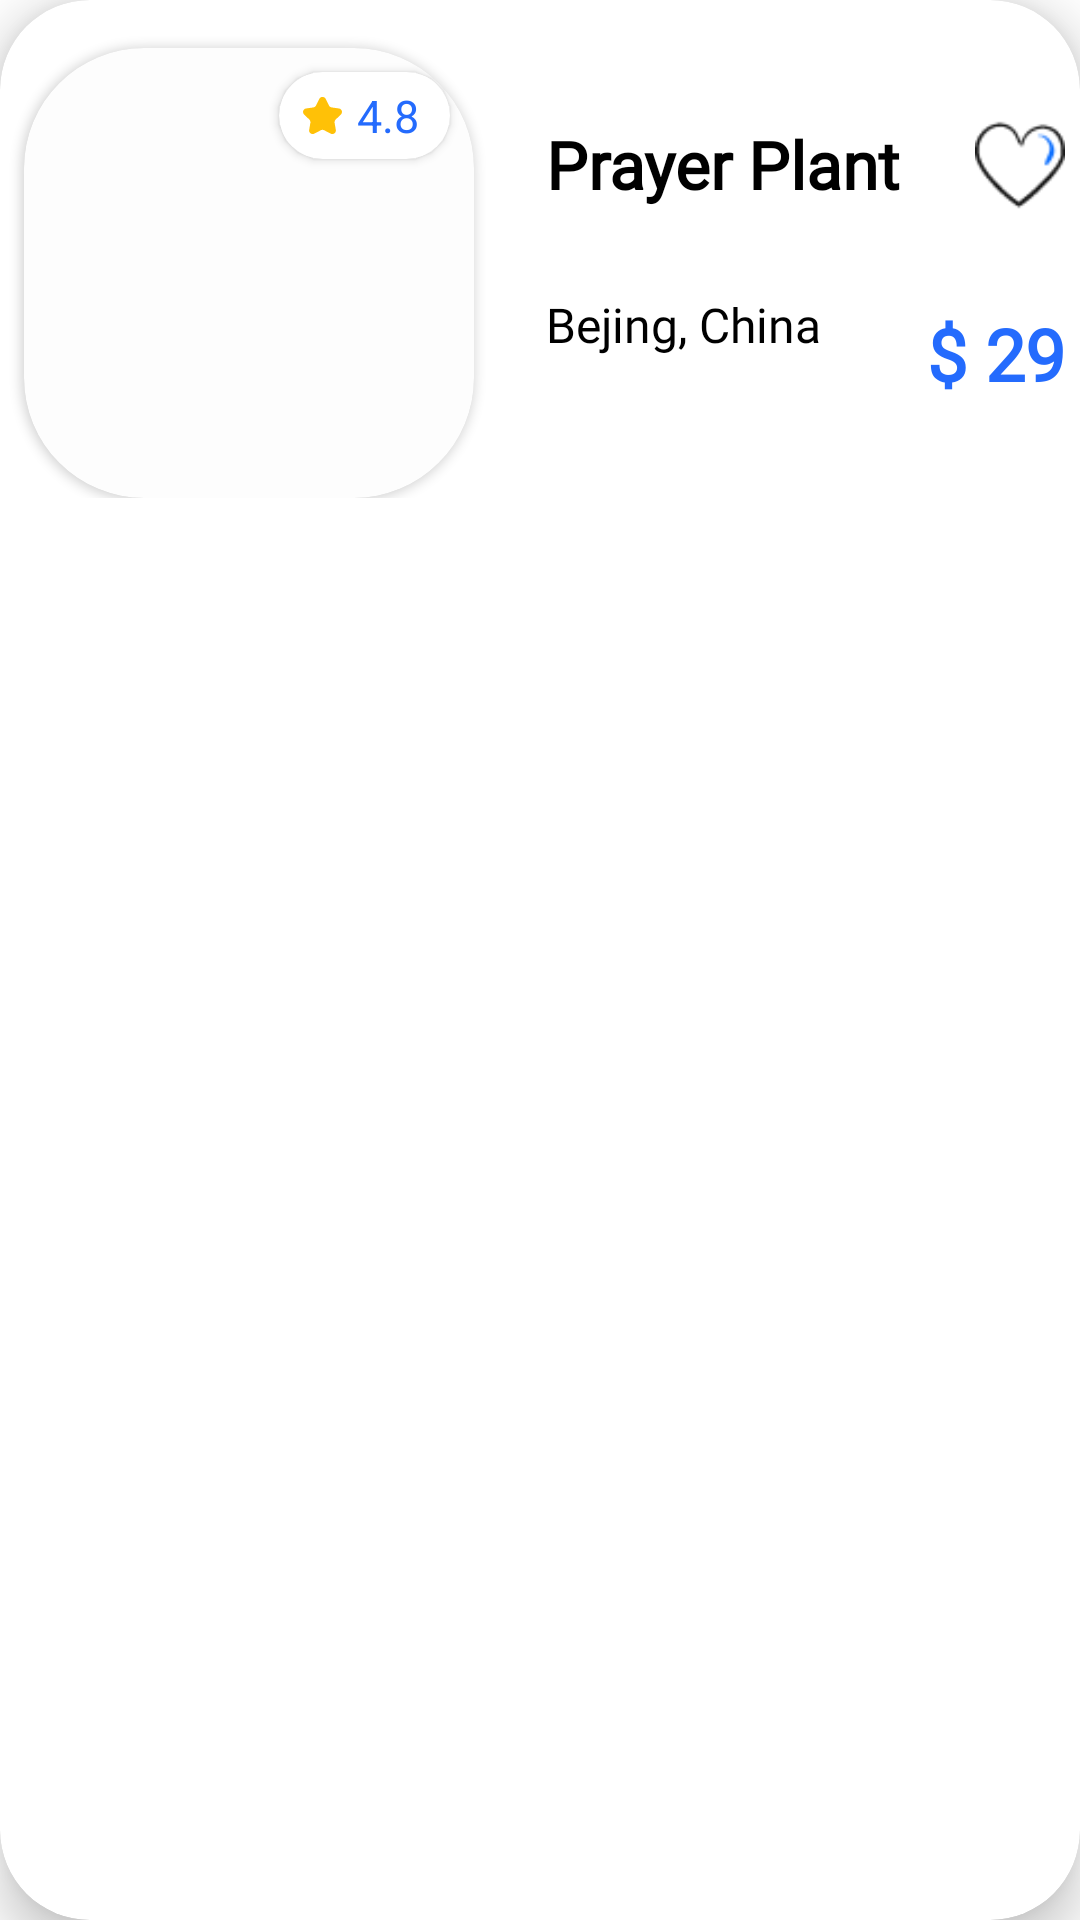

Locate icon controls on the screen. Image size 1080w x 1920h, boxes as (x1, y1, x2, y2).
heart org: (975, 122, 1065, 208)
star: (303, 97, 342, 134)
